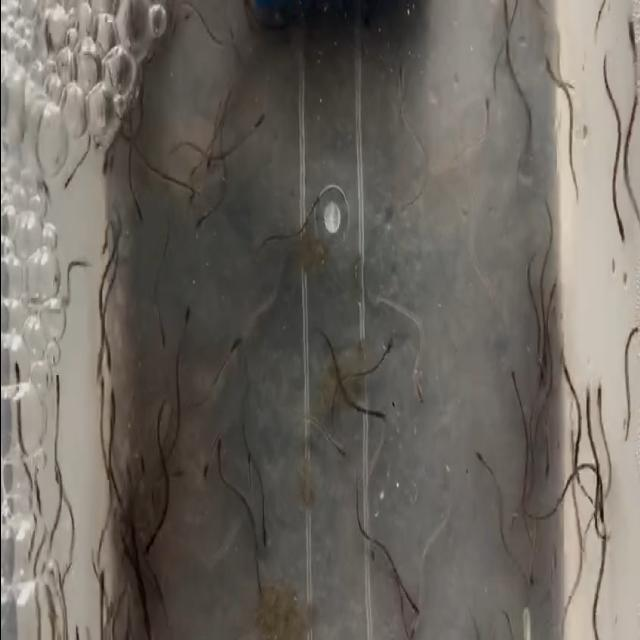active_glass_eel: (536, 338, 552, 396), (254, 507, 272, 558), (504, 366, 520, 414), (303, 193, 325, 227), (251, 107, 274, 139), (393, 48, 407, 100), (523, 554, 538, 602), (141, 525, 161, 561), (91, 366, 105, 414), (42, 368, 62, 401), (196, 448, 216, 481), (97, 558, 109, 612), (364, 536, 380, 576), (132, 188, 148, 228), (104, 382, 121, 419), (558, 354, 574, 392), (593, 371, 604, 425), (178, 301, 197, 332), (190, 204, 211, 232), (102, 338, 119, 372), (332, 439, 348, 474), (618, 412, 632, 452), (7, 348, 23, 382), (91, 331, 106, 367), (625, 16, 640, 52), (546, 264, 558, 308), (200, 142, 218, 171), (414, 378, 430, 410), (486, 65, 500, 101), (540, 455, 556, 485), (406, 594, 422, 624), (155, 330, 169, 364), (582, 376, 594, 415), (227, 334, 246, 358), (375, 404, 389, 436), (482, 99, 492, 142), (542, 49, 554, 83), (591, 502, 606, 529), (60, 172, 71, 208), (407, 618, 422, 640), (613, 220, 625, 247), (383, 334, 395, 359), (476, 451, 486, 477)
